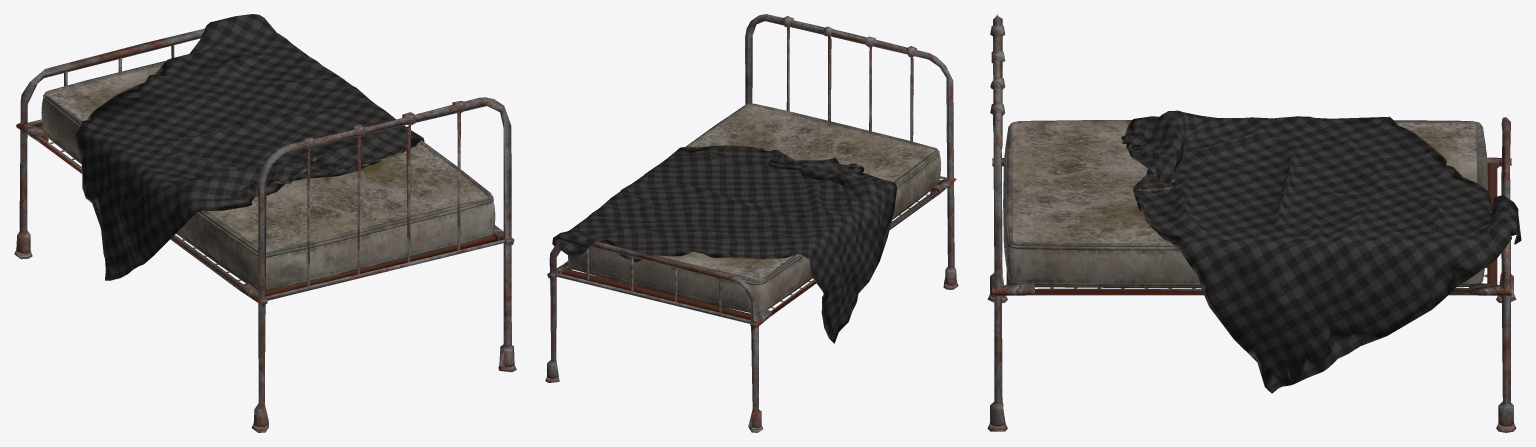
File: old_hospital_bed_pbr_gr.glb
3 views of the same model, side by side, from view 1: azimuth 30°, elevation 25°; view 2: azimuth 150°, elevation 25°; view 3: azimuth 270°, elevation 25° (orthographic). The views are drawn at different scales.
Parts seen in each view (by area): view 1: blanket, mattress, bed; view 2: blanket, mattress, bed; view 3: blanket, mattress, bed.
Boxes of the visible parts, x1=… form: blanket: x1=75, y1=14, x2=424, y2=280; mattress: x1=41, y1=61, x2=495, y2=291; bed: x1=14, y1=28, x2=516, y2=432; blanket: x1=552, y1=145, x2=897, y2=343; mattress: x1=568, y1=103, x2=940, y2=312; bed: x1=545, y1=14, x2=958, y2=432; blanket: x1=1121, y1=110, x2=1521, y2=393; mattress: x1=1003, y1=120, x2=1487, y2=287; bed: x1=987, y1=14, x2=1516, y2=432.
Bounding box in the file's own units: 133 × 130 × 210.
Materials: 3 (3 with a texture image).
